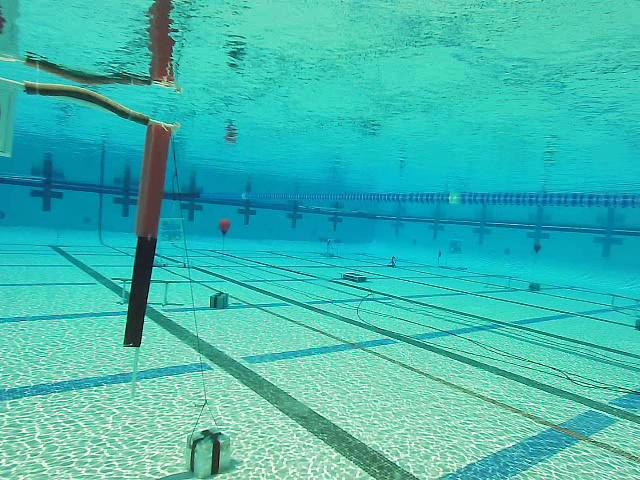buoy: (218, 220, 231, 238)
dropper: (339, 270, 369, 284)
gate_leg_r: (122, 118, 177, 349)
table: (318, 236, 346, 260)
torpedo: (156, 215, 186, 244), (445, 235, 464, 255)
